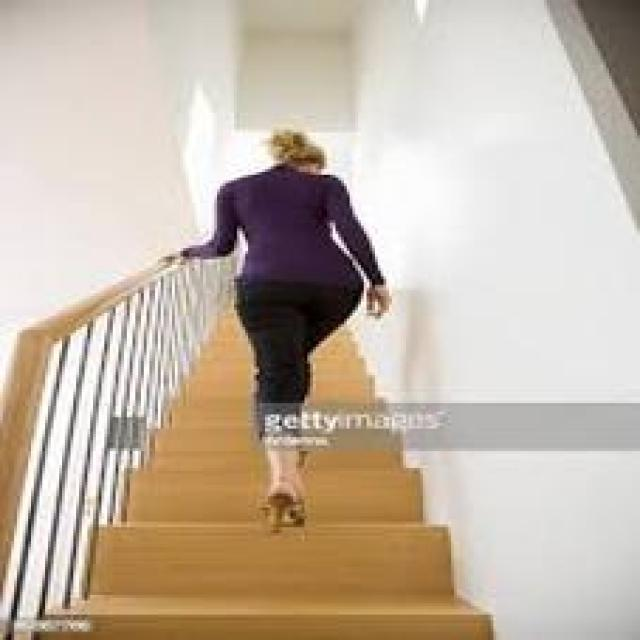stair: (89, 399, 478, 633), (169, 270, 437, 417)
